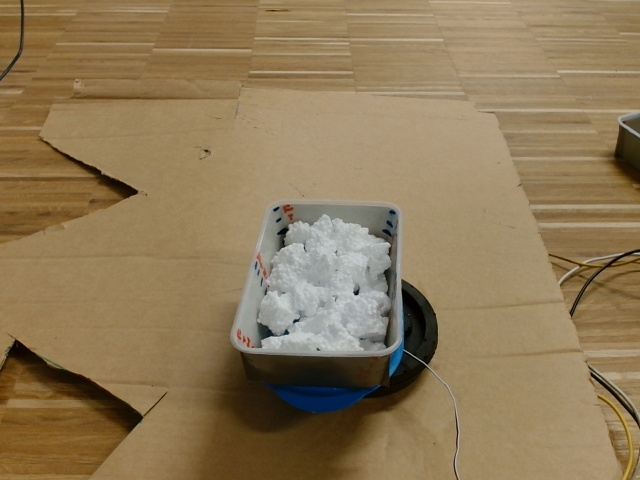Small_half: (240, 197, 401, 362)
